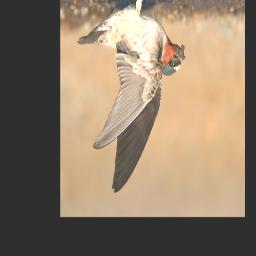Swallow: (76, 0, 186, 194)
